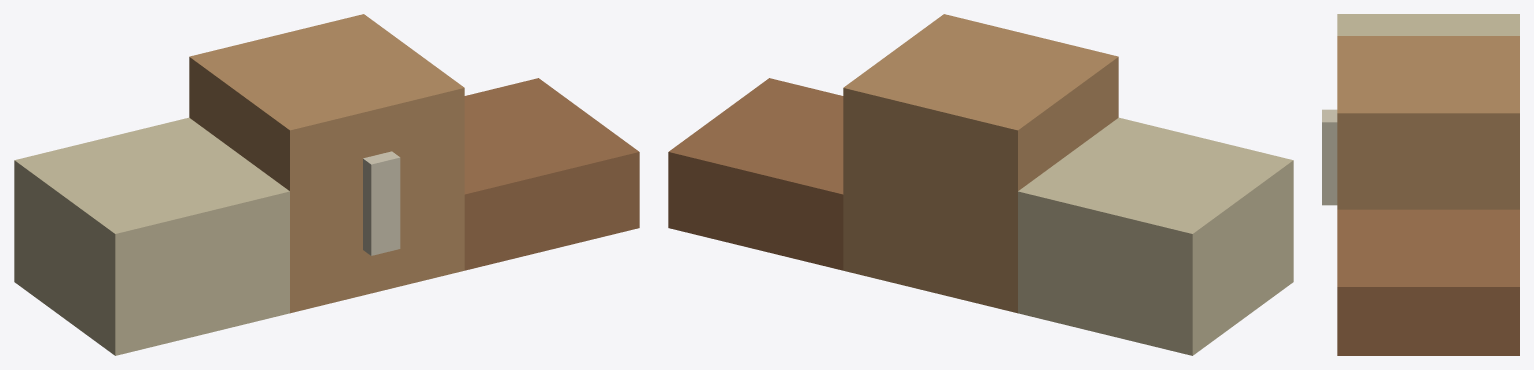
File: marketing-06.glb
3 renders of one model, left to right at view 1: azimuth 30°, elevation 25°; view 2: azimuth 150°, elevation 25°; view 3: azimuth 270°, elevation 25°, orthographic. The views are drawn at different scales.
Visible parts, largest first — view 1: Product plinth; view 2: Product plinth; view 3: Product plinth.
Part boxes in pixels (box(x1,y1,x2,y2)): Product plinth: box(14, 14, 639, 355); Product plinth: box(668, 14, 1293, 355); Product plinth: box(1322, 14, 1519, 355).
Size of the model in its own units: 2.88 by 0.96 by 1.04.
